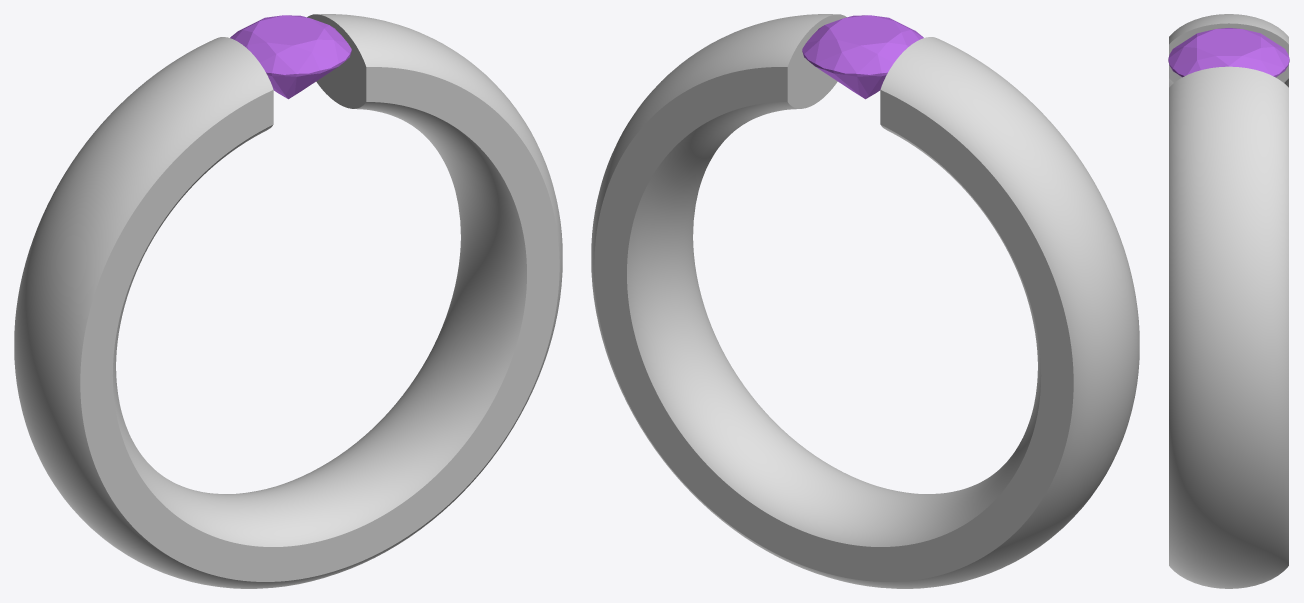
The picture shows the model from 3 angles, left to right: view 1: azimuth 30°, elevation 25°; view 2: azimuth 150°, elevation 25°; view 3: azimuth 270°, elevation 25°; orthographic projection. The views are drawn at different scales.
Parts seen in each view (by area): view 1: AN Fazi mis.23 tipo niessing.3dm; view 2: AN Fazi mis.23 tipo niessing.3dm; view 3: AN Fazi mis.23 tipo niessing.3dm.
Boxes of the visible parts, x1,y1,x2,y2 form: AN Fazi mis.23 tipo niessing.3dm: [14, 14, 562, 588]; AN Fazi mis.23 tipo niessing.3dm: [591, 14, 1139, 588]; AN Fazi mis.23 tipo niessing.3dm: [1168, 14, 1289, 588].
Size of the model in its own units: 2.8 by 2.79 by 0.5904.
